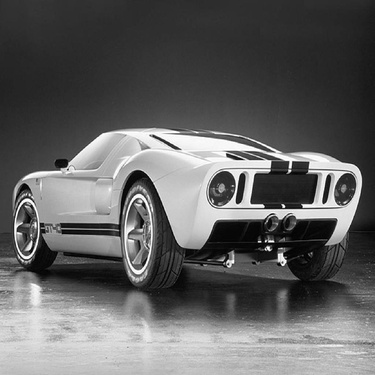car: (1, 101, 363, 292)
